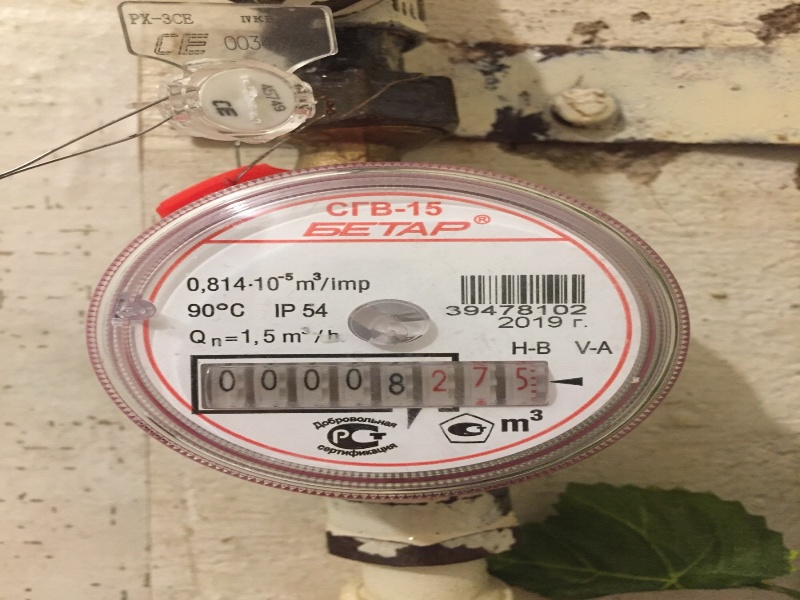dial: (202, 354, 534, 402)
